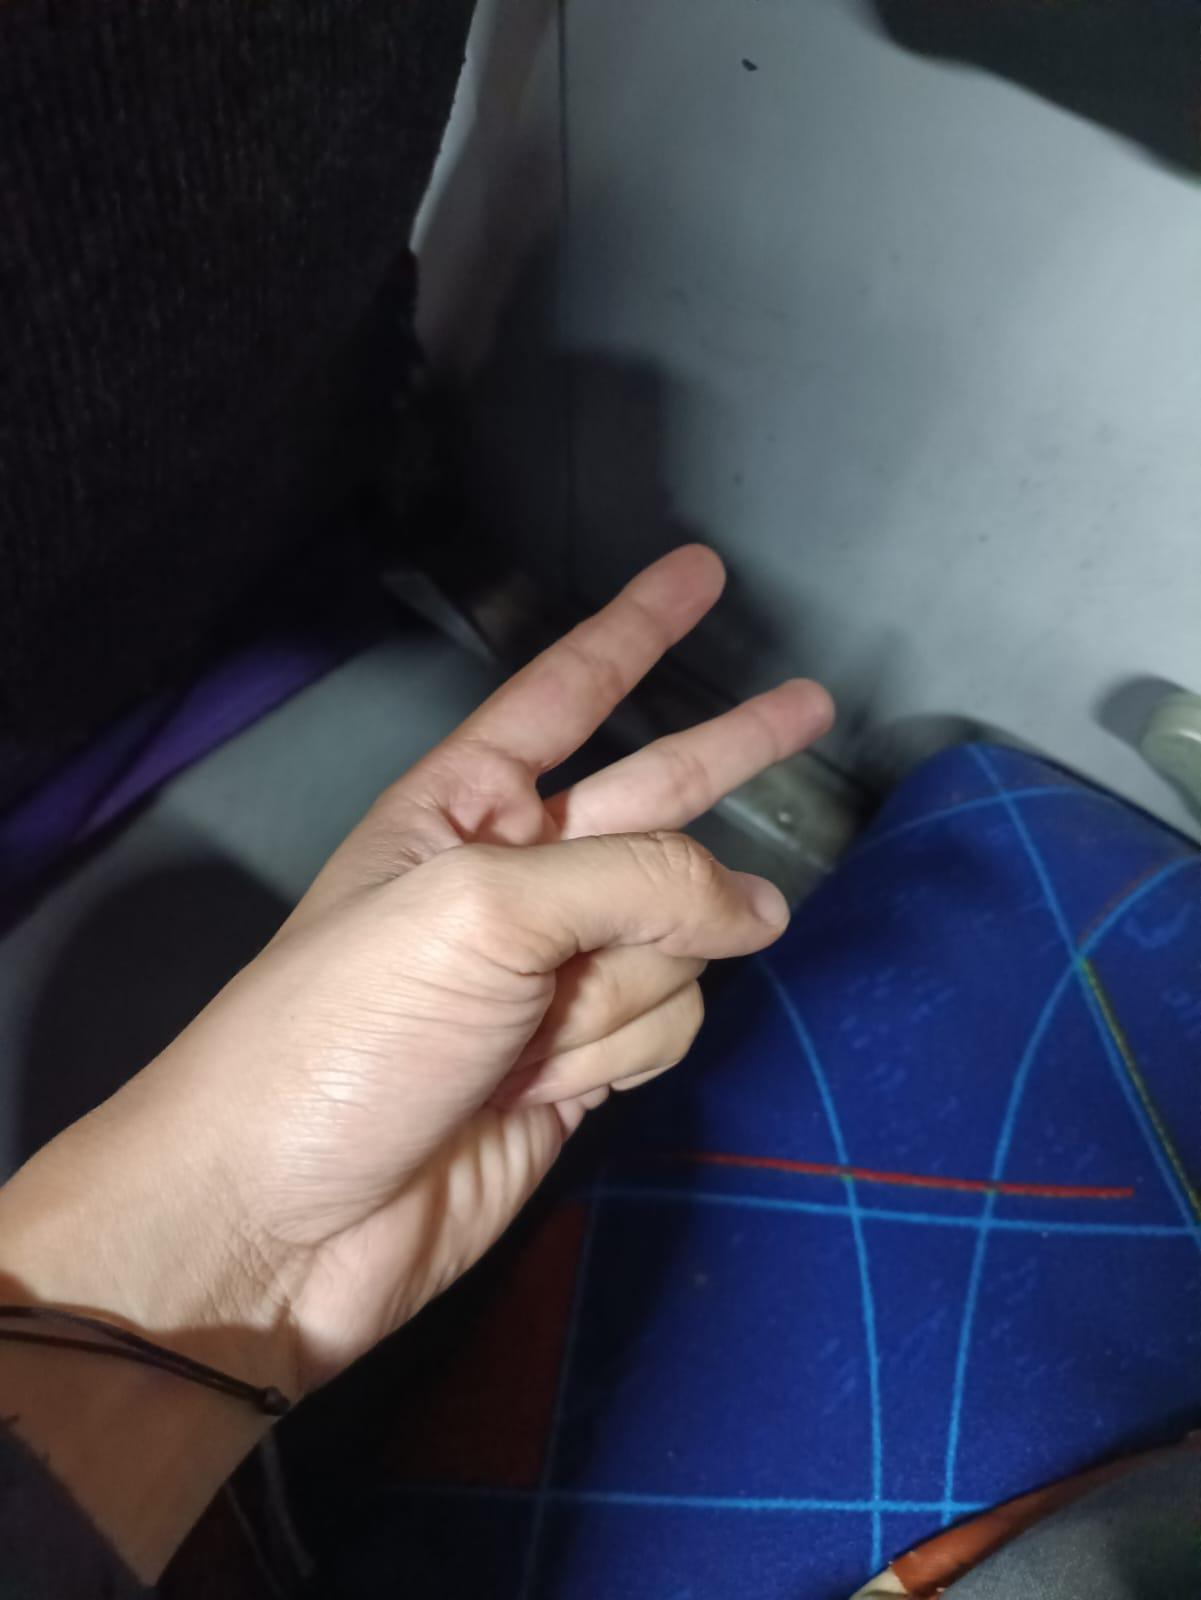Scissor: (0, 510, 923, 1580)
